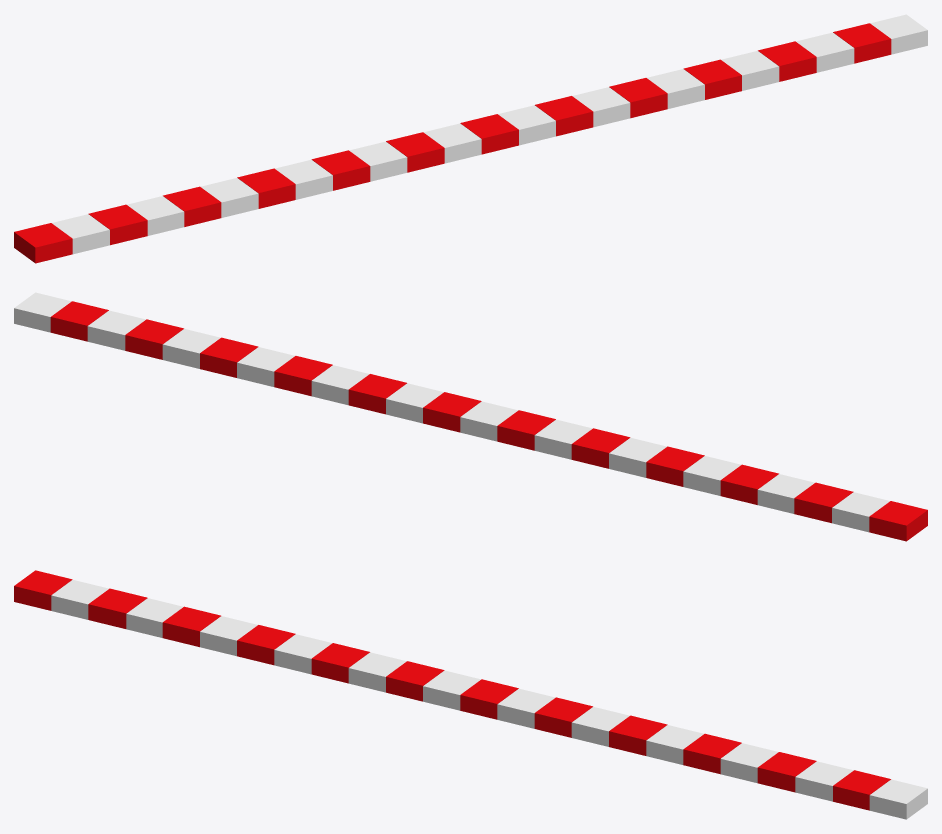
Rendered from redline2.dae.
3 renders of one model, top to bottom at view 1: azimuth 30°, elevation 25°; view 2: azimuth 150°, elevation 25°; view 3: azimuth 330°, elevation 25°, orthographic.
Parts seen in each view (by area): view 1: Plane.010, Plane; view 2: Plane.010, Plane; view 3: Plane.010, Plane.
Part boxes in pixels (x1,y1,x2,y2): Plane.010: (14,23,891,263); Plane: (52,14,927,254); Plane.010: (50,301,927,541); Plane: (14,292,889,532); Plane.010: (14,570,890,810); Plane: (51,579,927,819).
Bounding box in the file's own units: 1.2 × 0.05 × 0.0204.
